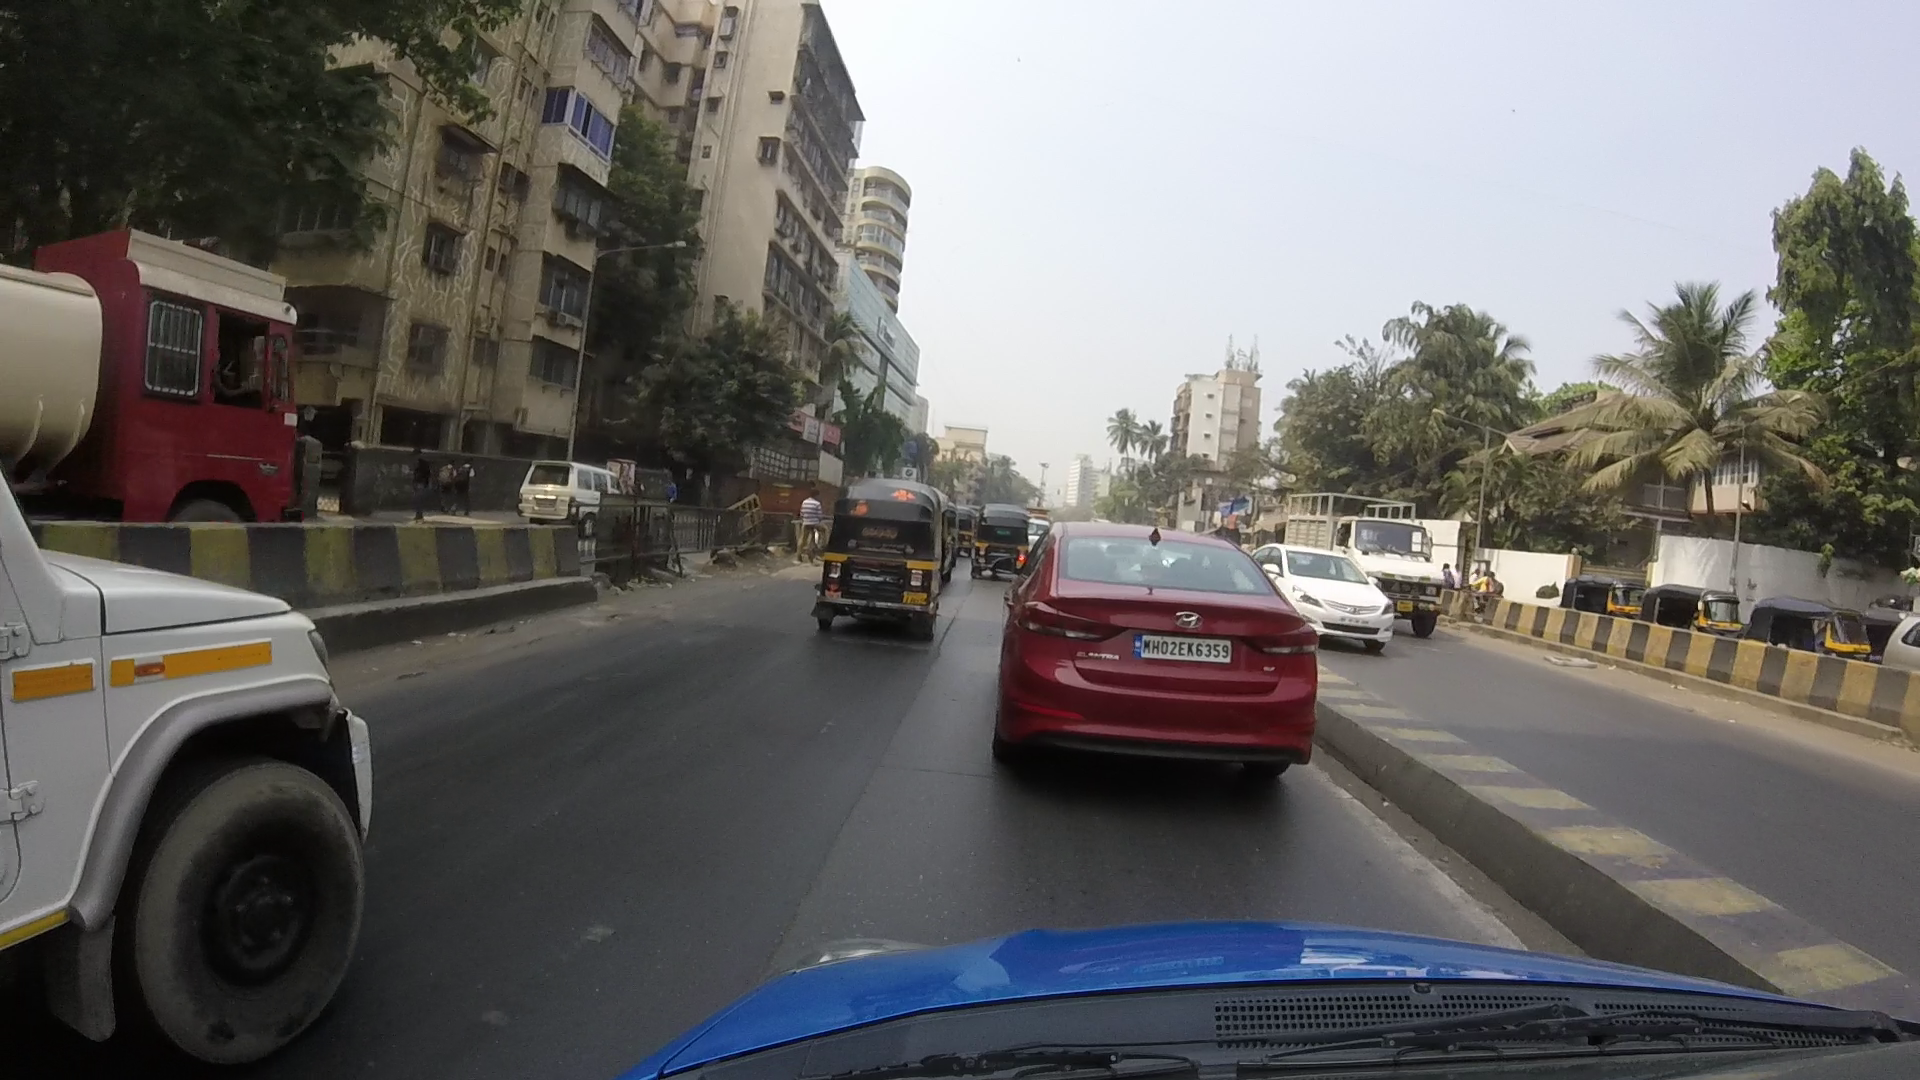car: (13, 510, 367, 1030), (996, 527, 1313, 774), (1273, 530, 1399, 645), (508, 439, 616, 527)
rickshaw: (816, 477, 949, 640), (1775, 585, 1875, 666), (1567, 556, 1652, 630), (1672, 580, 1743, 642)
truck: (11, 233, 319, 524), (1311, 487, 1455, 622)
